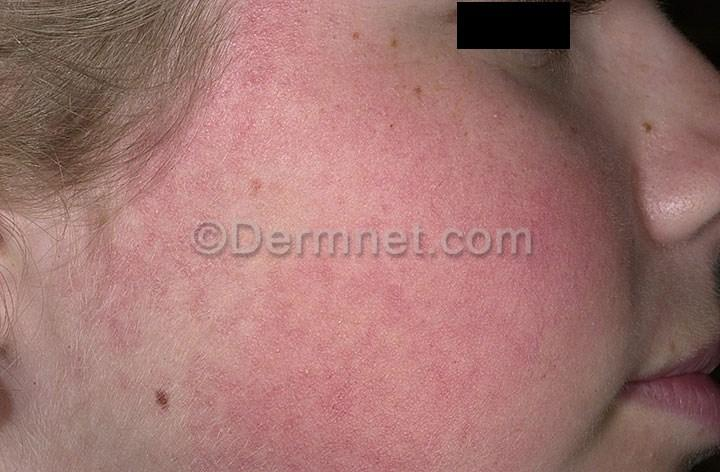Eritema 2: (126, 0, 631, 471)
